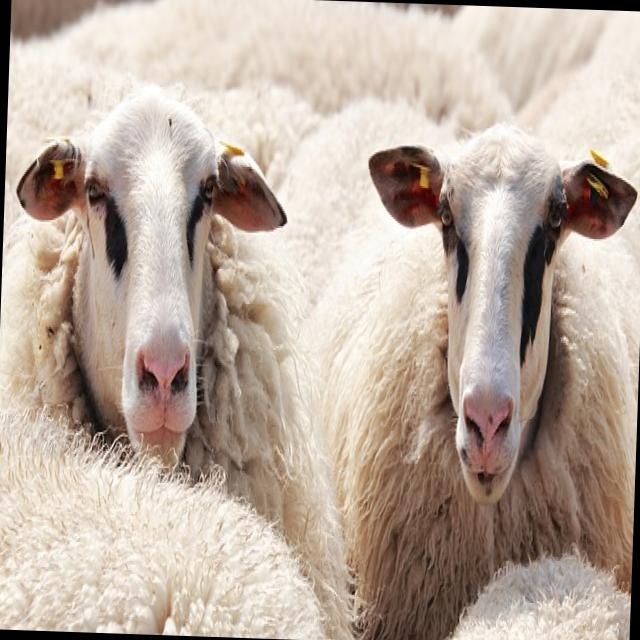sheep: (349, 123, 640, 640), (8, 81, 296, 494)
